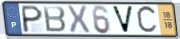6: (91, 4, 112, 36)
B: (42, 5, 68, 33)
C: (135, 4, 159, 36)
P: (21, 4, 44, 34)
V: (111, 5, 135, 35)
X: (66, 4, 92, 34)
